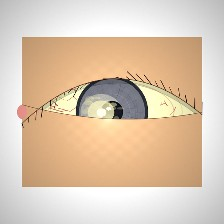corneal_ulcer: (79, 95, 123, 129)
